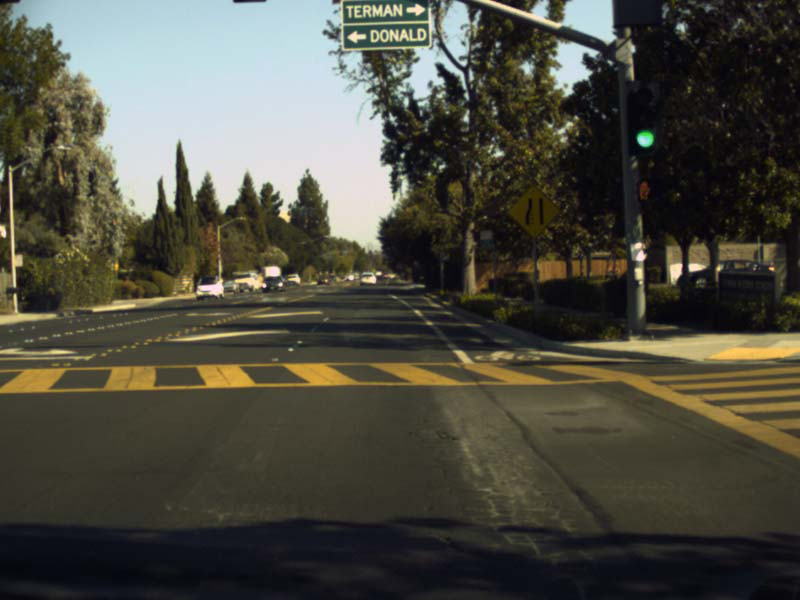Green: (629, 84, 656, 153)
